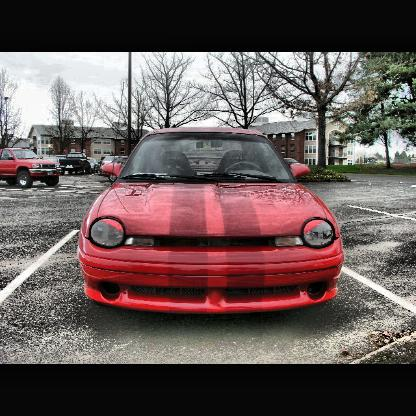Plymouth Neon Coupe 1999: (78, 127, 347, 317)
